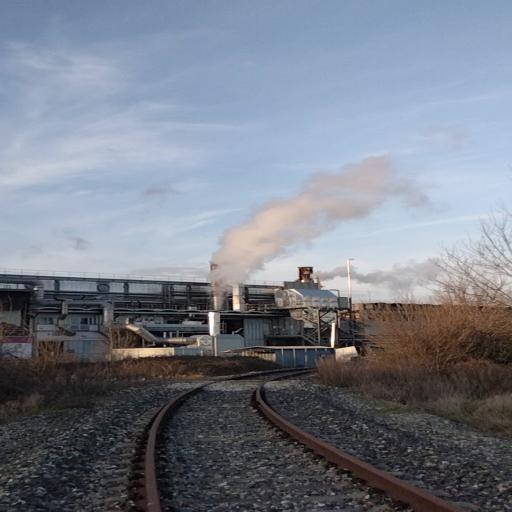leakage: (193, 148, 463, 315), (289, 248, 478, 299)
